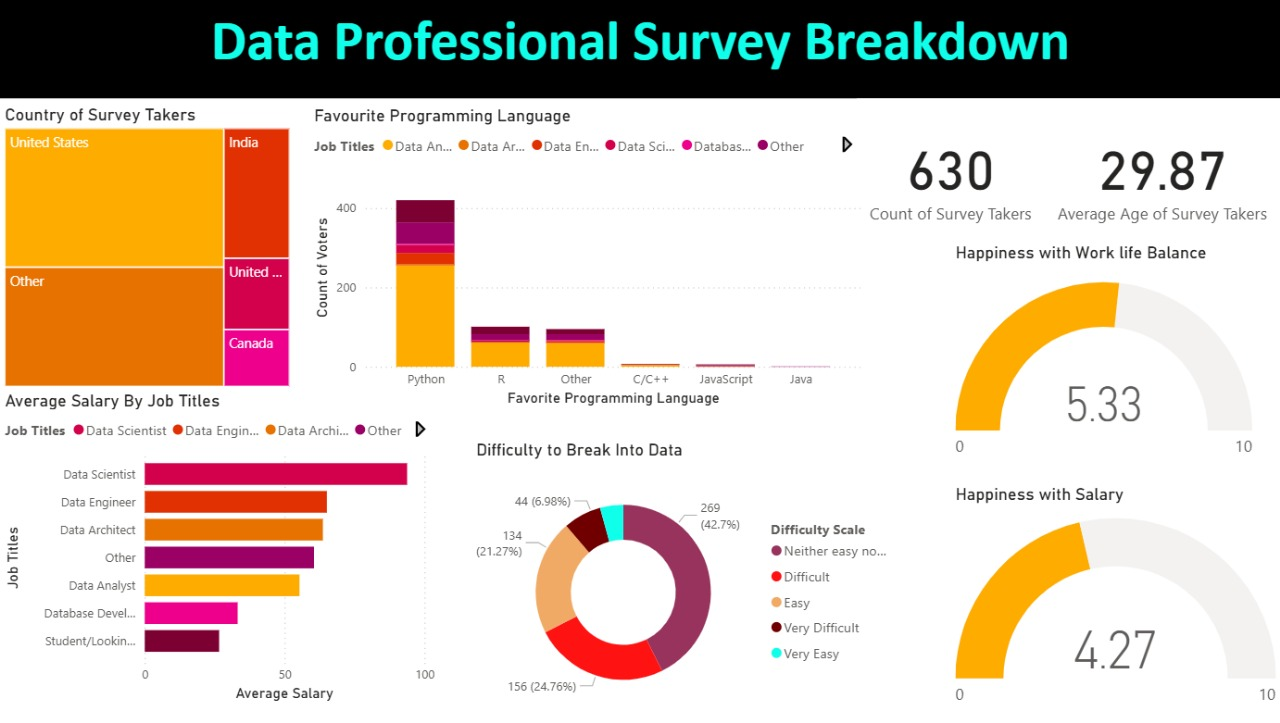

Layout of this report page (visuals, bound fields, positions):
{"tool":"powerbi","page":{"name":"Page 1","canvas":[1280,720],"ordinal":0},"visuals":[{"type":"textbox","box":[9.6,0,1270.7,97.4],"z":0},{"type":"card","fields":{"Values":["CountNonNull(Data Professional Survey.Unique ID)"]},"box":[859,97.4,186.6,150.9],"z":1000},{"type":"card","fields":{"Values":["Avg(Data Professional Survey.Q10 - Current Age)"]},"box":[1045.6,97.4,234.6,150.9],"z":2000},{"type":"barChart","title":"Average Salary By Job Titles","fields":{"Y":["Avg(Data Professional Survey.Average Salary)"],"Category":["Data Professional Survey.Q1 - Which Title Best Fits your Current Role?.1"],"Series":["Data Professional Survey.Q1 - Which Title Best Fits your Current Role?.1"]},"box":[9.6,387,436.4,314.2],"z":3000},{"type":"columnChart","title":"Favourite Programming Language","fields":{"Y":["CountNonNull(Data Professional Survey.Unique ID)"],"Category":["Data Professional Survey.Q5 - Favorite Programming Language.1"],"Series":["Data Professional Survey.Q1 - Which Title Best Fits your Current Role?.1"]},"box":[315.6,104.3,553,303.3],"z":4000},{"type":"treemap","title":"Country of Survey Takers","fields":{"Group":["Data Professional Survey.Q11 - Which Country do you live in?.1"],"Values":["CountNonNull(Data Professional Survey.Average Salary)"]},"box":[9.6,102.9,292.3,285.4],"z":5000},{"type":"gauge","title":"Happiness with Work life Balance","fields":{"Y":["Avg(Data Professional Survey.Q6 - How Happy are you in your Current Position with the following? (Management))"],"MinValue":["Min(Data Professional Survey.Q6 - How Happy are you in your Current Position with the following? (Management))"],"MaxValue":["Max(Data Professional Survey.Q6 - How Happy are you in your Current Position with the following? (Management))"]},"box":[952.3,240.1,304.6,240.1],"z":6000},{"type":"gauge","title":"Happiness with Salary","fields":{"Y":["Avg(Data Professional Survey.Q6 - How Happy are you in your Current Position with the following? (Salary))"],"MinValue":["Min(Data Professional Survey.Q6 - How Happy are you in your Current Position with the following? (Salary))"],"MaxValue":["Max(Data Professional Survey.Q6 - How Happy are you in your Current Position with the following? (Salary))1"]},"box":[952.3,480.3,328,240.1],"z":7000},{"type":"donutChart","title":"Difficulty to Break Into Data","fields":{"Y":["CountNonNull(Data Professional Survey.Average Salary)"],"Category":["Data Professional Survey.Q7 - How difficult was it for you to break into Data?"]},"box":[476.2,436.4,428.1,284],"z":8000}]}

Visuals, with their boxes in screenshot pixels (x1, y1, x2, y2), scaled from the page's 1280x720 canvas onto the 1280x723 screenshot:
textbox: l=10, t=0, r=1279, b=98
card - CountNonNull(Data Professional Survey.Unique ID): l=859, t=98, r=1046, b=249
card - Avg(Data Professional Survey.Q10 - Current Age): l=1046, t=98, r=1279, b=249
"Average Salary By Job Titles" barChart: l=10, t=389, r=446, b=704
"Favourite Programming Language" columnChart: l=316, t=105, r=869, b=409
"Country of Survey Takers" treemap: l=10, t=103, r=302, b=390
"Happiness with Work life Balance" gauge: l=952, t=241, r=1257, b=482
"Happiness with Salary" gauge: l=952, t=482, r=1279, b=722
"Difficulty to Break Into Data" donutChart: l=476, t=438, r=904, b=722
